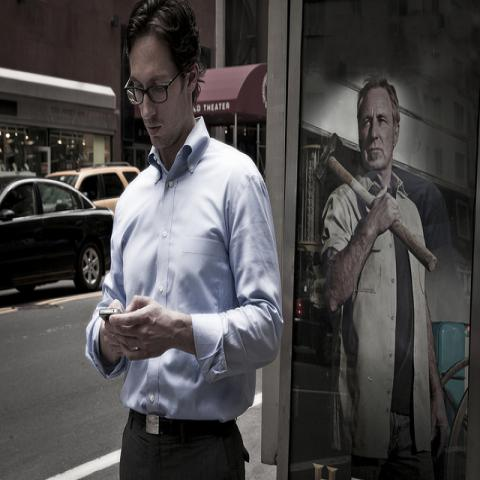car: (0, 173, 114, 295), (45, 162, 140, 212)
